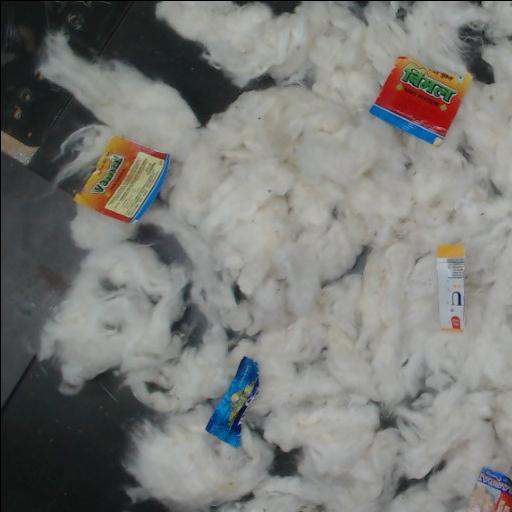conveyor belt: (1, 1, 273, 512), (461, 27, 493, 83), (137, 226, 183, 263), (174, 306, 205, 344), (395, 473, 429, 494), (273, 450, 296, 475), (264, 1, 297, 13)
cotton: (39, 1, 512, 512)
packet: (65, 136, 169, 222), (370, 56, 471, 143), (205, 357, 258, 446), (436, 243, 463, 330), (468, 468, 512, 512)
